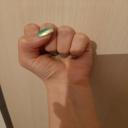Fist: (16, 21, 105, 89)
